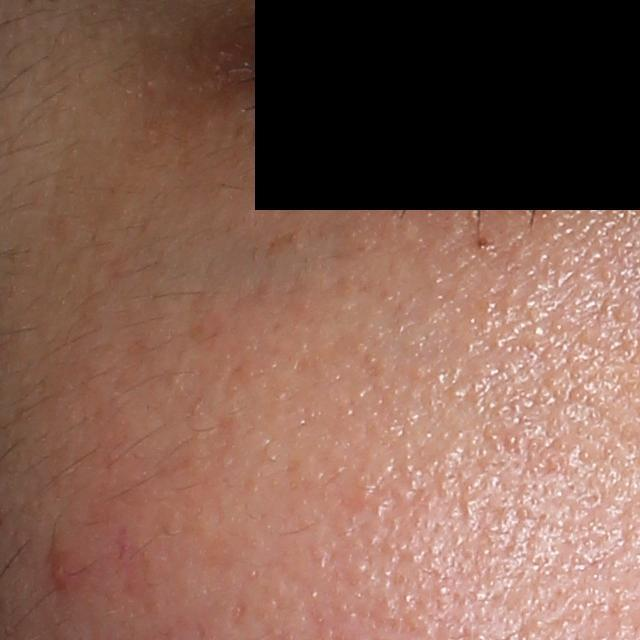nevus: (472, 233, 497, 258)
papule: (51, 545, 78, 593)
